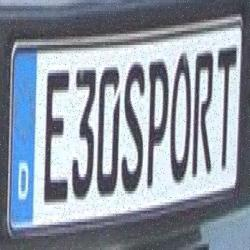LicensePlate: (3, 9, 247, 246)
